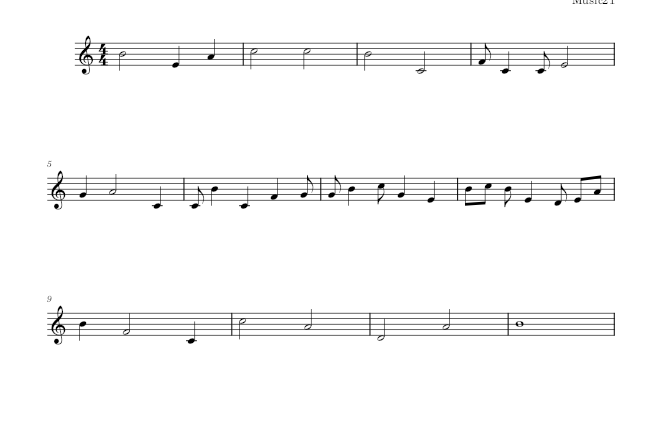Treble Clef: (47, 303, 69, 349), (47, 168, 69, 213), (74, 31, 95, 78)
